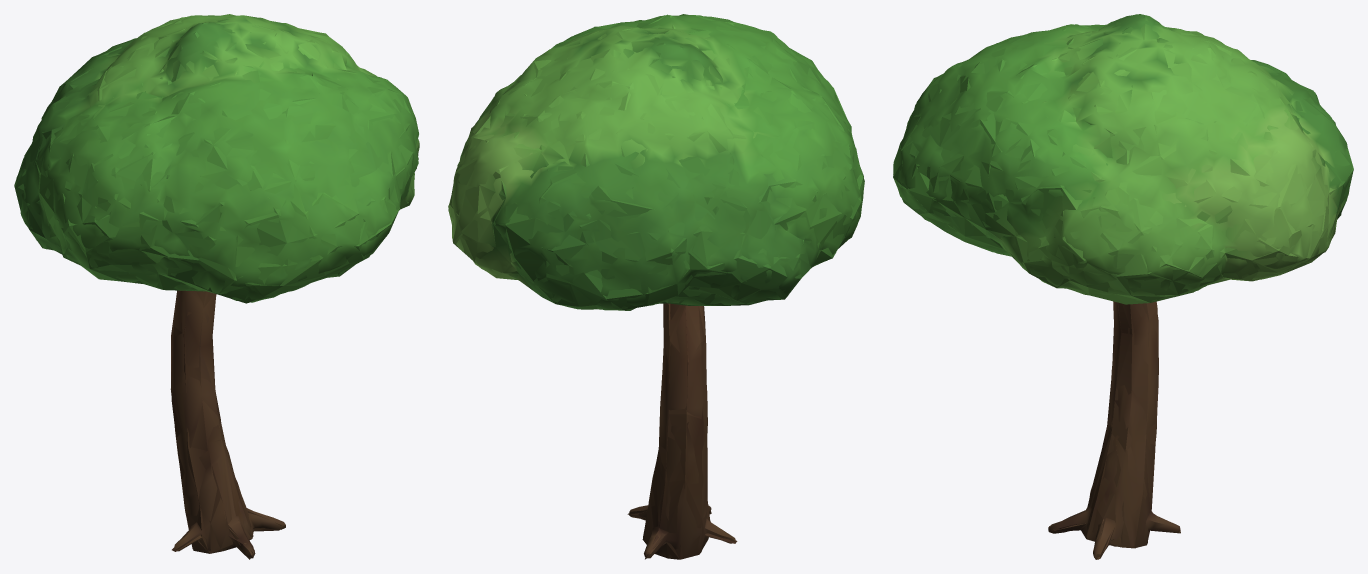
Rendered from broadleaf_mature_irregular_continuous.glb.
The picture shows the model from 3 angles, left to right: view 1: azimuth 30°, elevation 25°; view 2: azimuth 150°, elevation 25°; view 3: azimuth 270°, elevation 25°; orthographic projection. The views are drawn at different scales.
Parts seen in each view (by area): view 1: broadleaf_mature_irregular_continuous_LOD1, broadleaf_mature_irregular_continuous_LOD2; view 2: broadleaf_mature_irregular_continuous_LOD1, broadleaf_mature_irregular_continuous_LOD2; view 3: broadleaf_mature_irregular_continuous_LOD1, broadleaf_mature_irregular_continuous_LOD2.
Part boxes in pixels (left/top/right/bottom): broadleaf_mature_irregular_continuous_LOD1: left=15, top=14, right=419, bottom=558; broadleaf_mature_irregular_continuous_LOD2: left=14, top=15, right=419, bottom=559; broadleaf_mature_irregular_continuous_LOD1: left=448, top=14, right=863, bottom=558; broadleaf_mature_irregular_continuous_LOD2: left=448, top=15, right=864, bottom=559; broadleaf_mature_irregular_continuous_LOD1: left=893, top=14, right=1353, bottom=559; broadleaf_mature_irregular_continuous_LOD2: left=893, top=14, right=1353, bottom=559.
Bounding box in the file's own units: 3.63 × 4.97 × 3.94.
